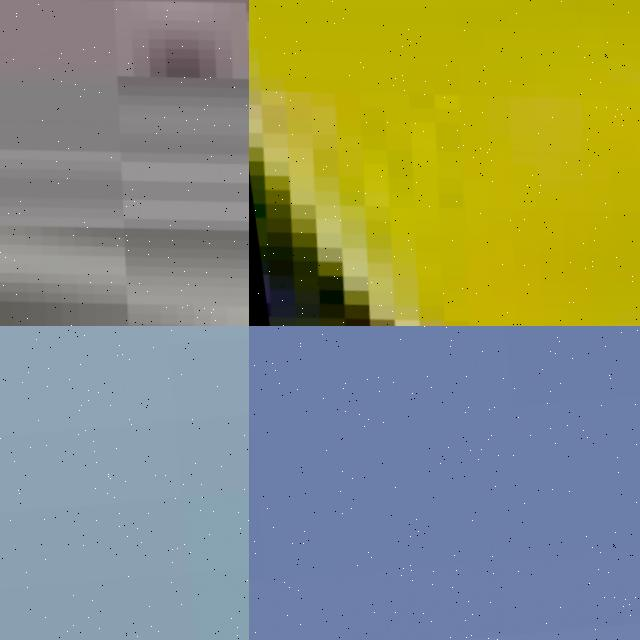0: (0, 0, 249, 326)
drone: (249, 0, 640, 326)
